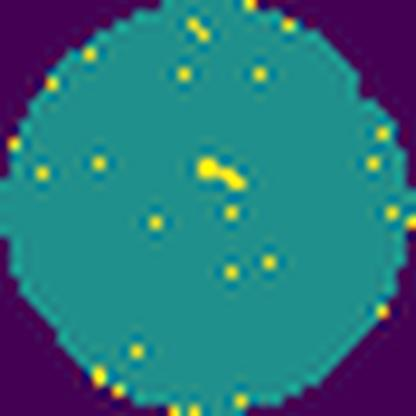Loc: (198, 158, 247, 194)
